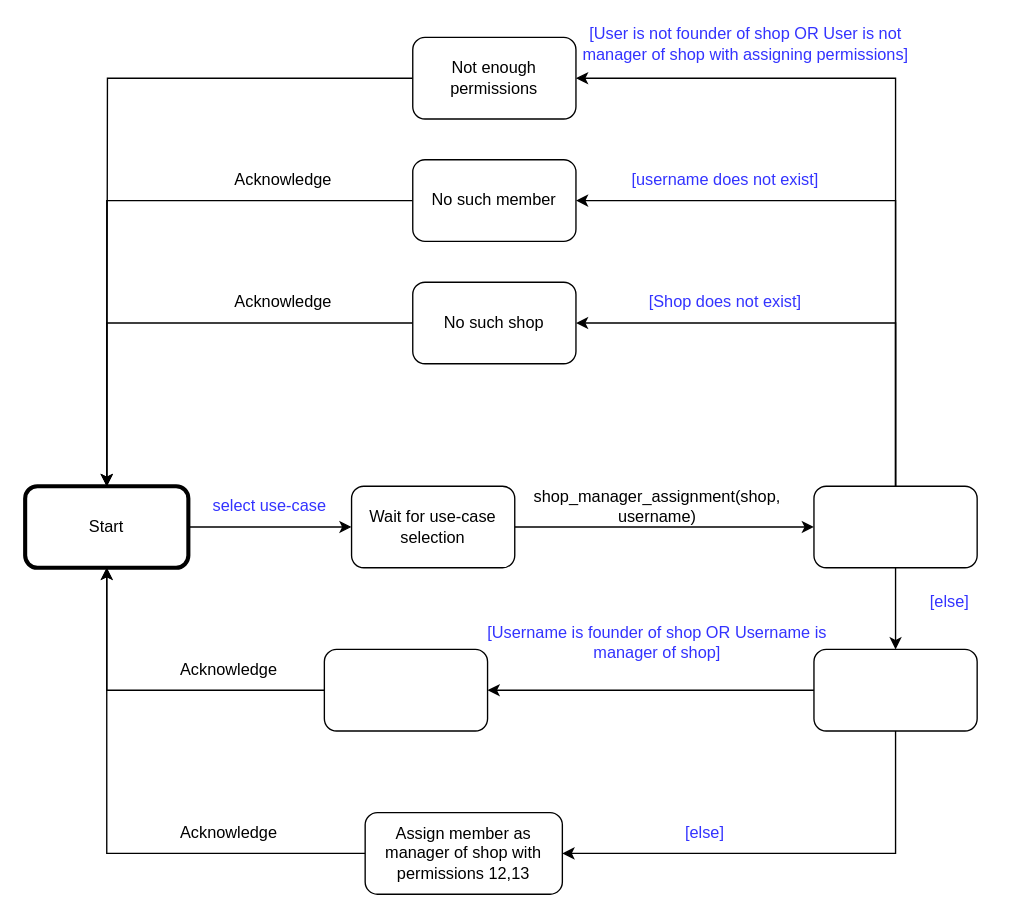
Image size: 1015x918. Some labels were removed from this diagram. The centre of each missing label's shape, as x and y in pixels:
Member Checking: point (895, 689)
Permission Checking: point (895, 526)
This user already has these permissions: point (405, 689)
